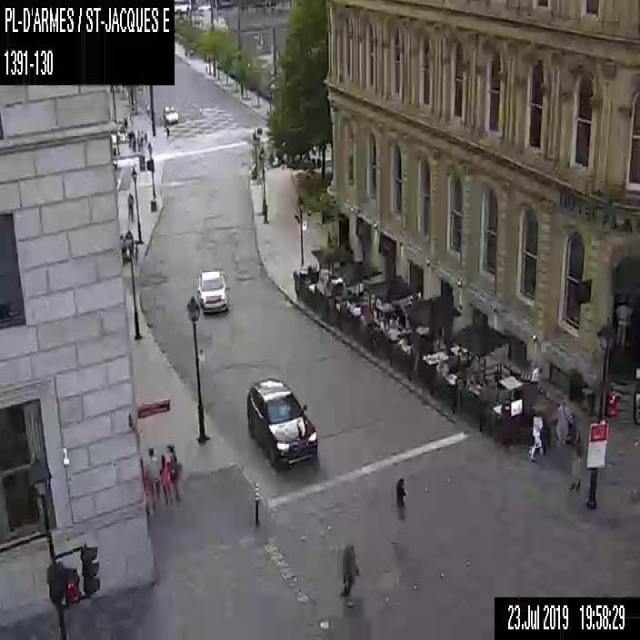pedestrian: (339, 542, 358, 598), (550, 399, 571, 447), (165, 444, 181, 502), (146, 446, 160, 502), (158, 454, 172, 506), (567, 448, 582, 491), (395, 478, 407, 522), (126, 192, 133, 221)
vehicle: (244, 376, 318, 471), (196, 268, 228, 312), (163, 104, 178, 123)
